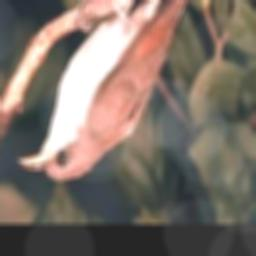Cuckoo: (17, 0, 204, 182)
